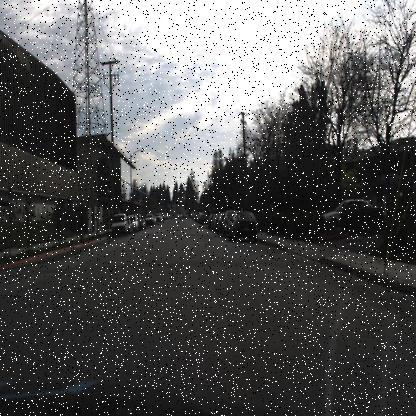car: (320, 193, 380, 228), (228, 210, 258, 244), (110, 212, 128, 238), (222, 209, 236, 237)
